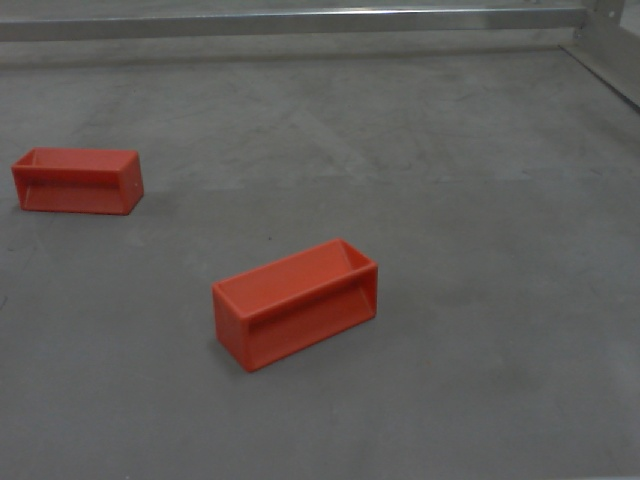RedSample: (210, 239, 380, 375), (10, 143, 144, 221)
